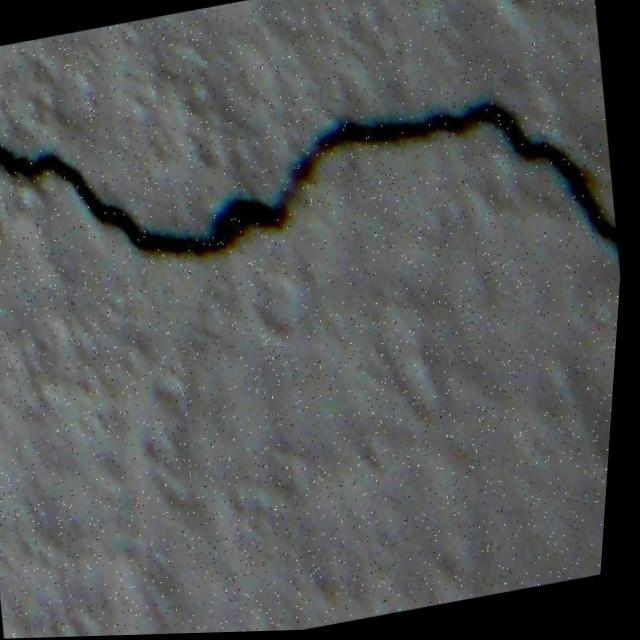Crack: (0, 6, 636, 382)
